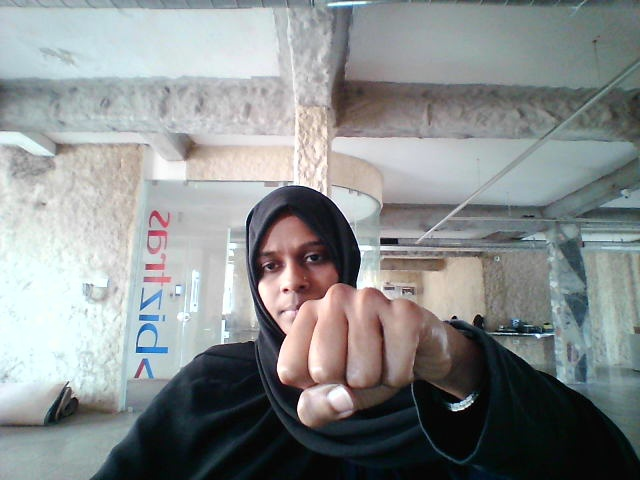YES: (273, 276, 459, 438)
